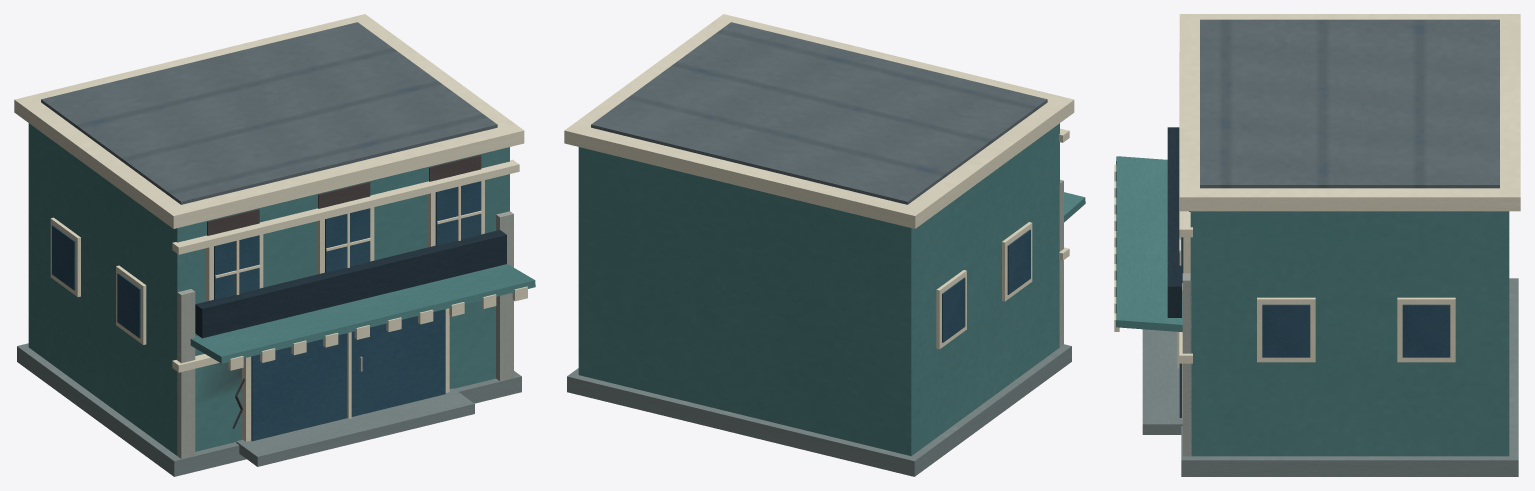
Rendered from corner-store-scorched-lod.glb.
The picture shows the model from 3 angles, left to right: view 1: azimuth 30°, elevation 25°; view 2: azimuth 150°, elevation 25°; view 3: azimuth 270°, elevation 25°; orthographic projection. The views are drawn at different scales.
Parts seen in each view (by area): view 1: corner-store-scorched-lod; view 2: corner-store-scorched-lod; view 3: corner-store-scorched-lod.
Boxes of the visible parts, x1,y1,x2,y2 form: corner-store-scorched-lod: (14, 14, 535, 476); corner-store-scorched-lod: (564, 14, 1085, 476); corner-store-scorched-lod: (1114, 14, 1520, 476).
Bounding box in the file's own units: 6.54 × 4.72 × 6.12.
Materials: 4 (4 with a texture image).
